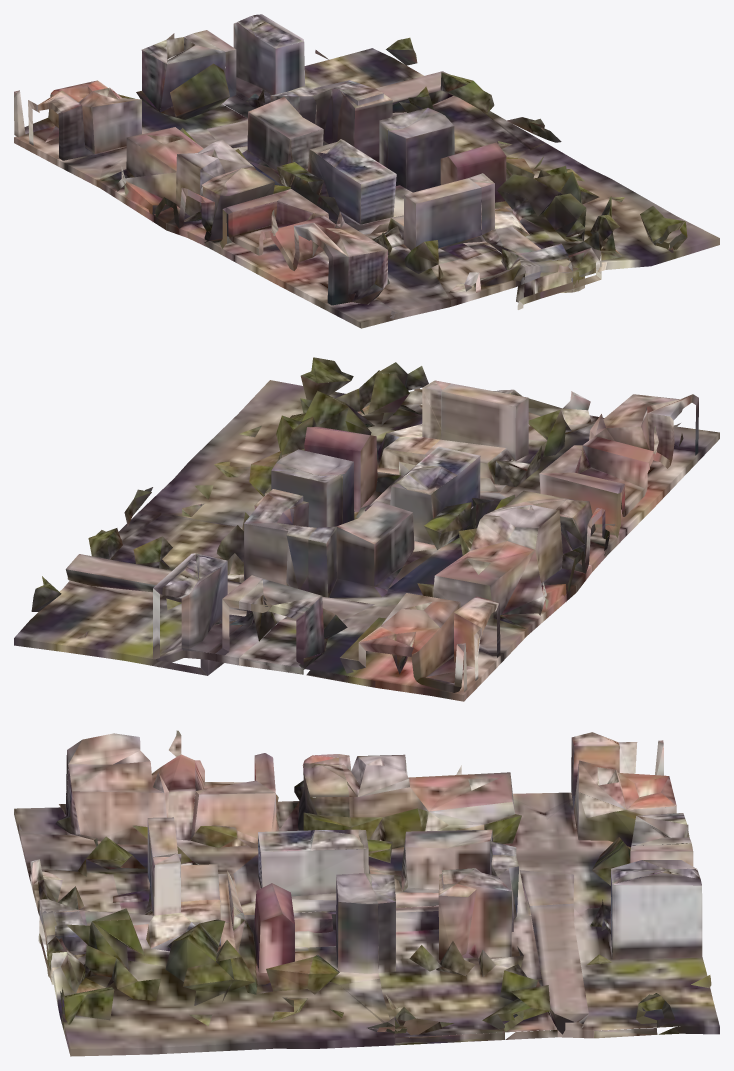
The picture shows the model from 3 angles, top to bottom: view 1: azimuth 30°, elevation 25°; view 2: azimuth 150°, elevation 25°; view 3: azimuth 270°, elevation 25°; orthographic projection. The views are drawn at different scales.
Visible parts, largest first — view 1: Mesh_0; view 2: Mesh_0; view 3: Mesh_0.
Boxes of the visible parts, x1,y1,x2,y2 form: Mesh_0: (14,14,719,328); Mesh_0: (14,357,719,701); Mesh_0: (14,730,719,1056).
Bounding box in the file's own units: 266 × 65.88 × 330.
Materials: 2 (2 with a texture image).
